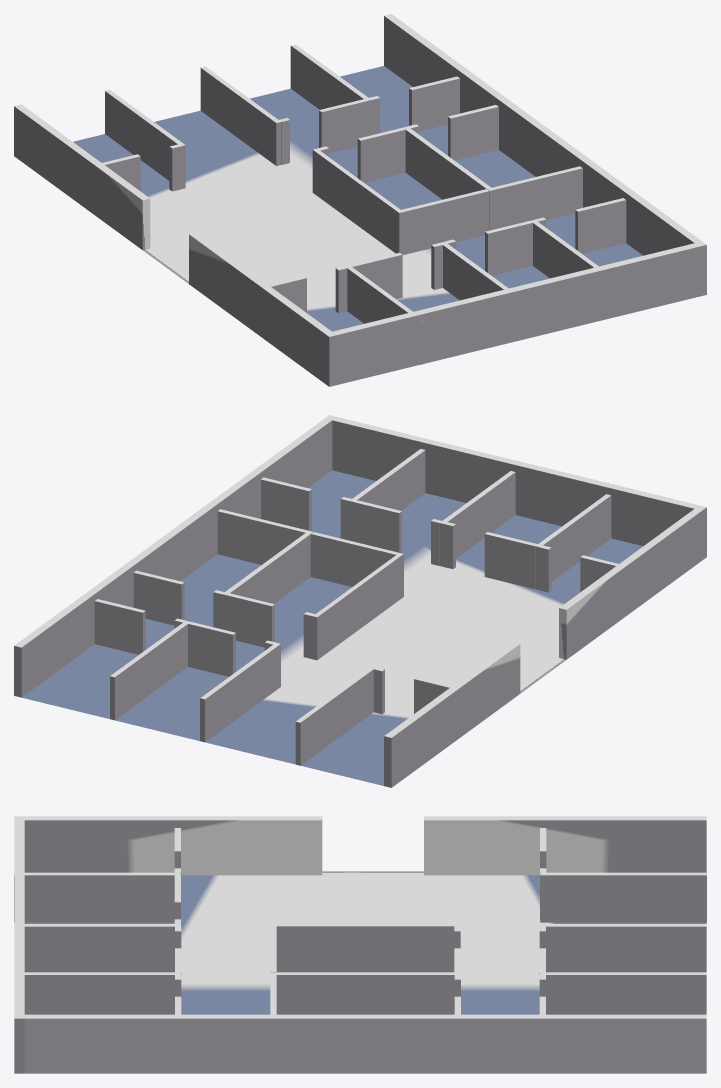
Rendered from Map_1.fbx.
3 renders of one model, top to bottom at view 1: azimuth 30°, elevation 25°; view 2: azimuth 150°, elevation 25°; view 3: azimuth 270°, elevation 25°, orthographic. The views are drawn at different scales.
Parts seen in each view (by area): view 1: Map_1; view 2: Map_1; view 3: Map_1.
Boxes of the visible parts, x1,y1,x2,y2 form: Map_1: [14, 14, 706, 386]; Map_1: [14, 415, 706, 787]; Map_1: [14, 816, 706, 1073].
Bounding box in the file's own units: 3148 × 398 × 4557.
